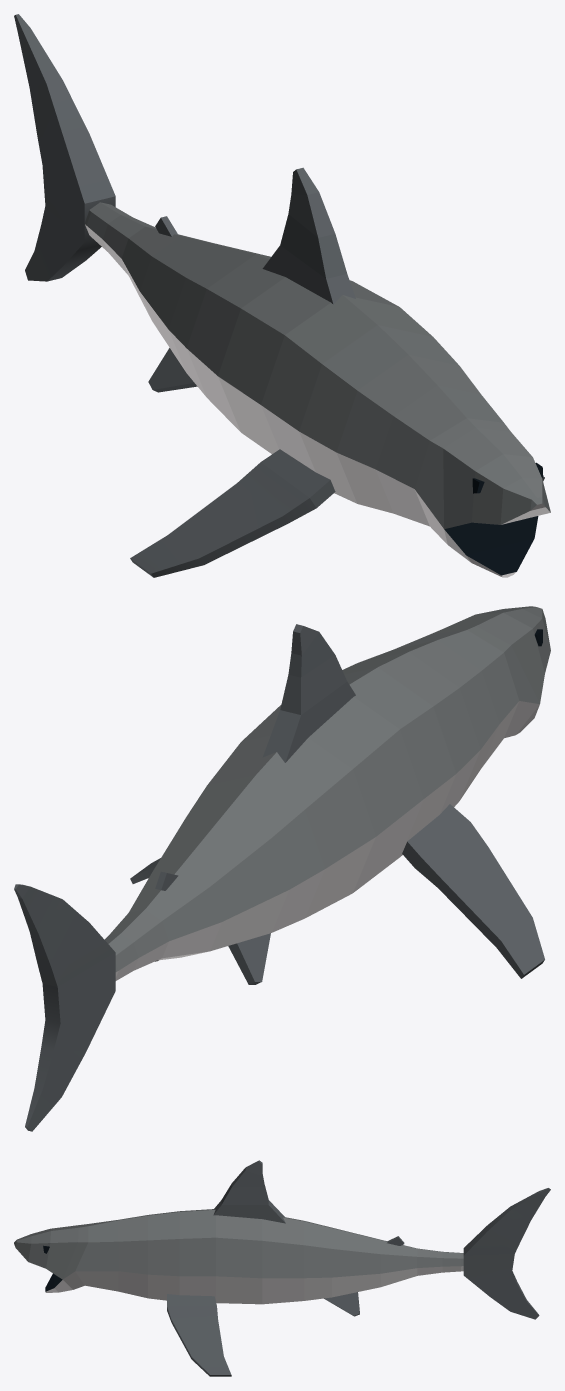
File: EnemyShark.FBX
The picture shows the model from 3 angles, top to bottom: view 1: azimuth 30°, elevation 25°; view 2: azimuth 150°, elevation 25°; view 3: azimuth 270°, elevation 25°; orthographic projection. The views are drawn at different scales.
Parts seen in each view (by area): view 1: Geo_Shark; view 2: Geo_Shark; view 3: Geo_Shark.
Boxes of the visible parts, <box> form: Geo_Shark: <box>14,14,550,577</box>; Geo_Shark: <box>14,606,550,1131</box>; Geo_Shark: <box>14,1160,550,1376</box>.
Size of the model in its own units: 76.37 by 176 by 60.5.
Materials: 1 (1 with a texture image).
